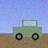vehicle: (13, 20, 42, 40)
